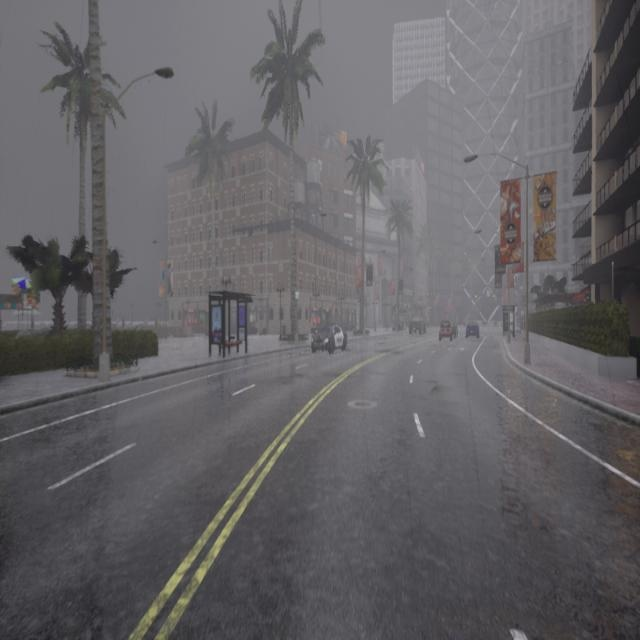bien_chi_dan: (475, 290, 477, 300), (493, 290, 495, 298), (493, 294, 495, 298), (475, 295, 477, 298)
